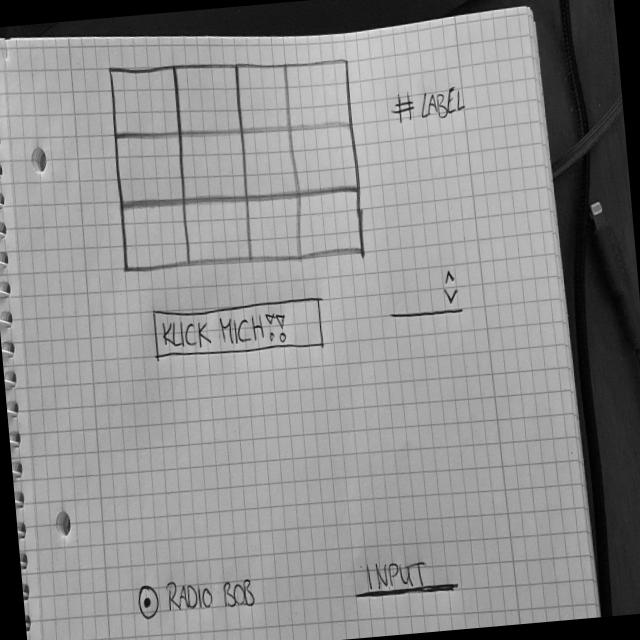button: (149, 292, 327, 366)
label: (349, 550, 462, 604), (389, 81, 469, 126)
number-input: (384, 268, 464, 322)
radio: (136, 570, 258, 624)
table: (105, 42, 368, 280)
